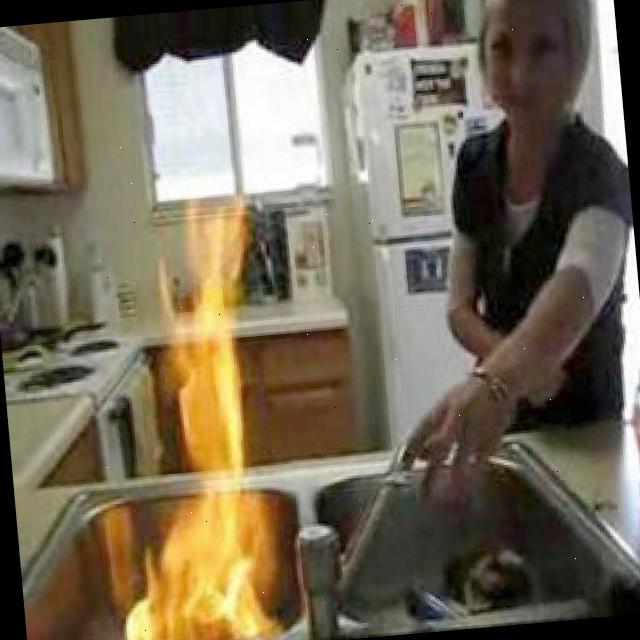fire: (96, 214, 287, 640)
